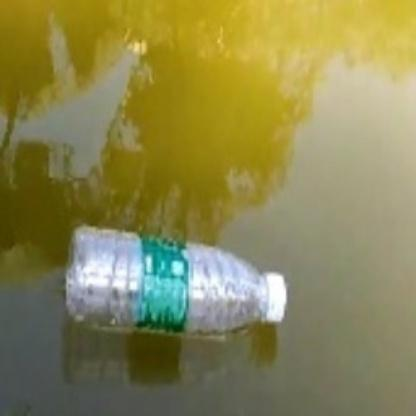plastic bottle: (63, 224, 287, 332)
